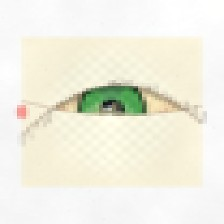corneal_ulcer: (81, 96, 137, 141)
